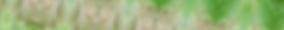Tomato leaf late blight: (95, 0, 175, 30)
